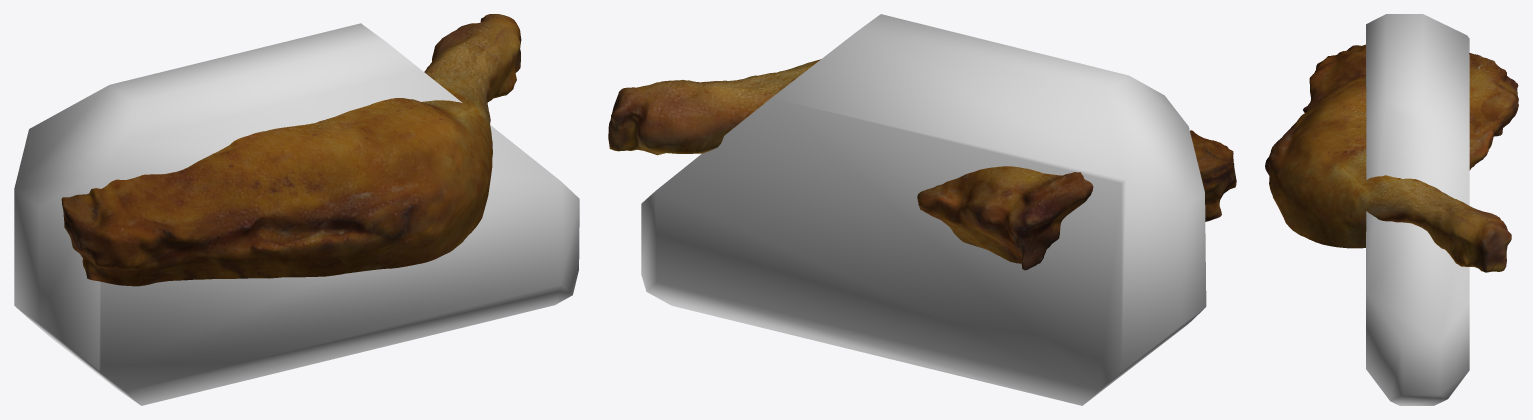
Rendered from SM_Chicken_Food.fbx.
3 views of the same model, side by side, from view 1: azimuth 30°, elevation 25°; view 2: azimuth 150°, elevation 25°; view 3: azimuth 270°, elevation 25° (orthographic). The views are drawn at different scales.
Parts seen in each view (by area): view 1: SM_Chicken_Food_ConvexHulls, SM_Chicken_Food; view 2: SM_Chicken_Food_ConvexHulls, SM_Chicken_Food; view 3: SM_Chicken_Food_ConvexHulls, SM_Chicken_Food.
Part boxes in pixels (<box>): SM_Chicken_Food_ConvexHulls: <box>14,23,579,405</box>; SM_Chicken_Food: <box>61,14,521,286</box>; SM_Chicken_Food_ConvexHulls: <box>641,14,1206,405</box>; SM_Chicken_Food: <box>608,59,1236,270</box>; SM_Chicken_Food_ConvexHulls: <box>1366,14,1469,405</box>; SM_Chicken_Food: <box>1265,44,1518,272</box>.
Bounding box in the file's own units: 0.1867 × 0.1035 × 0.1011.
